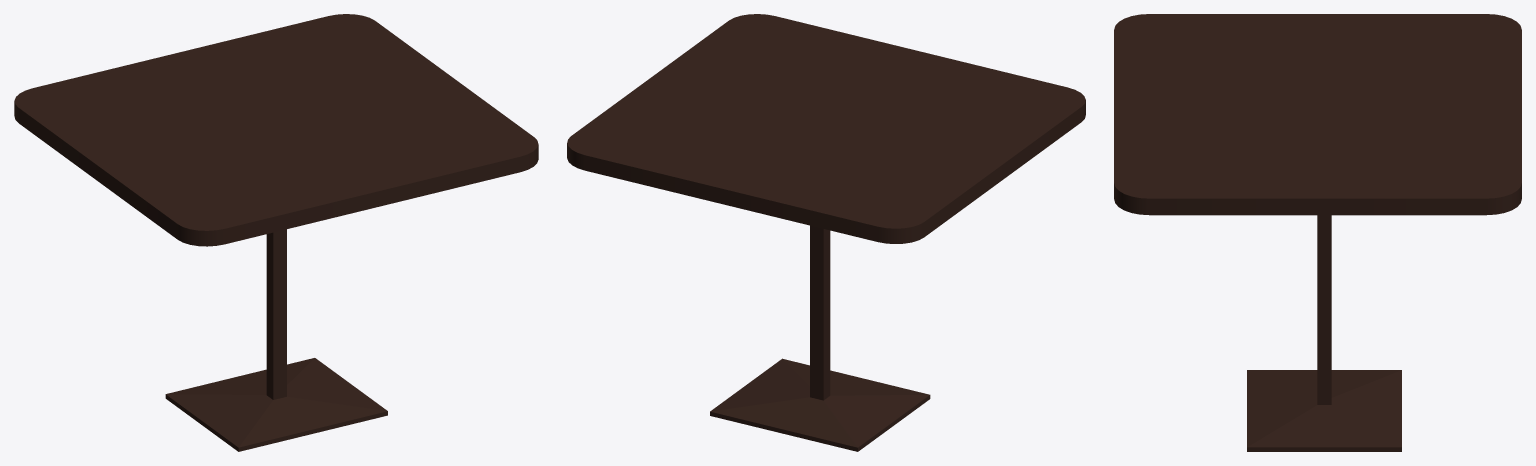
The model's file is plane.269_lev3.glb.
3 views of the same model, side by side, from view 1: azimuth 30°, elevation 25°; view 2: azimuth 150°, elevation 25°; view 3: azimuth 270°, elevation 25° (orthographic). The views are drawn at different scales.
Parts seen in each view (by area): view 1: plane.269_lev3; view 2: plane.269_lev3; view 3: plane.269_lev3.
Part boxes in pixels (x1,y1,x2,y2): plane.269_lev3: [14, 14, 538, 451]; plane.269_lev3: [567, 14, 1085, 451]; plane.269_lev3: [1114, 14, 1521, 451].
Size of the model in its own units: 0.7174 by 0.553 by 0.6695.
